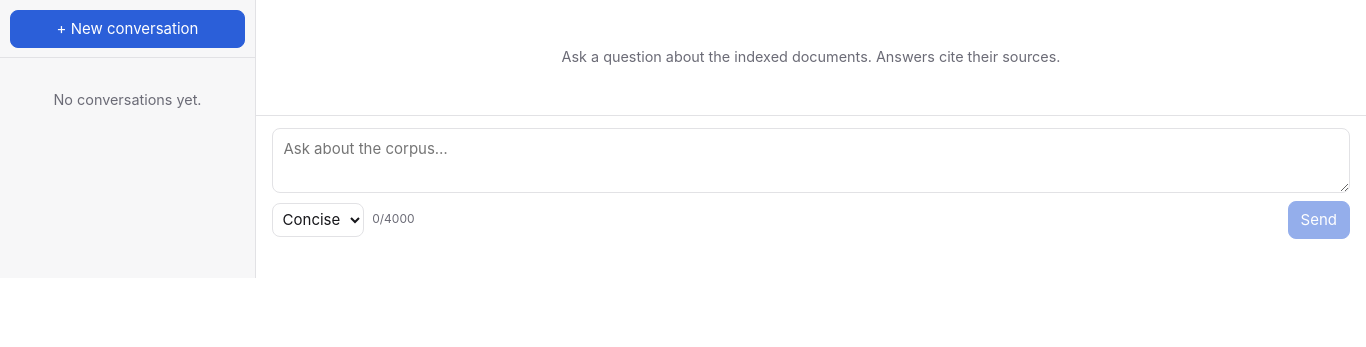
Test: ChatPage › shows sources when the answer streams
Type "refund window" into the text box named "Message" at (811, 160), box [272,128,1350,193]
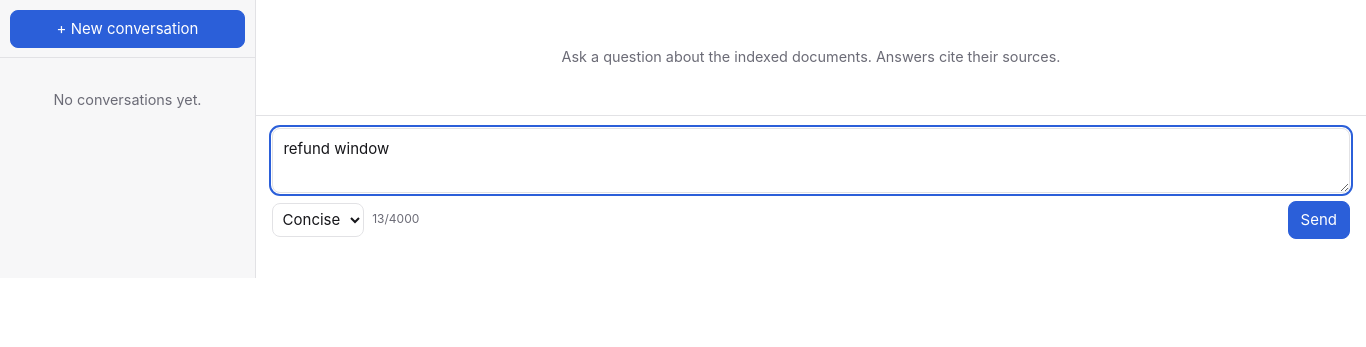
Click the button "Send" at (1319, 220), box [1288,201,1350,239]
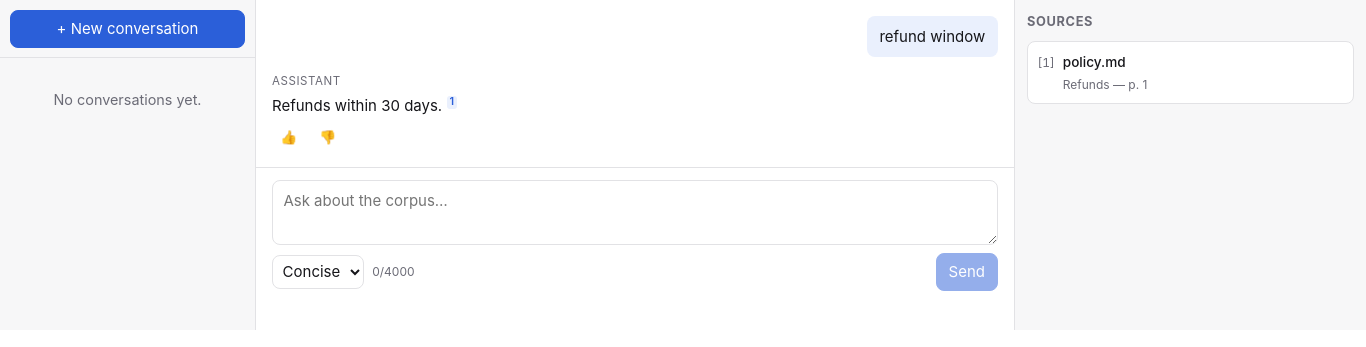
expect the heading "Sources" is shown: met, box [1027,14,1093,29]
expect the text "policy.md" is shown: met, box [1063,54,1126,70]
